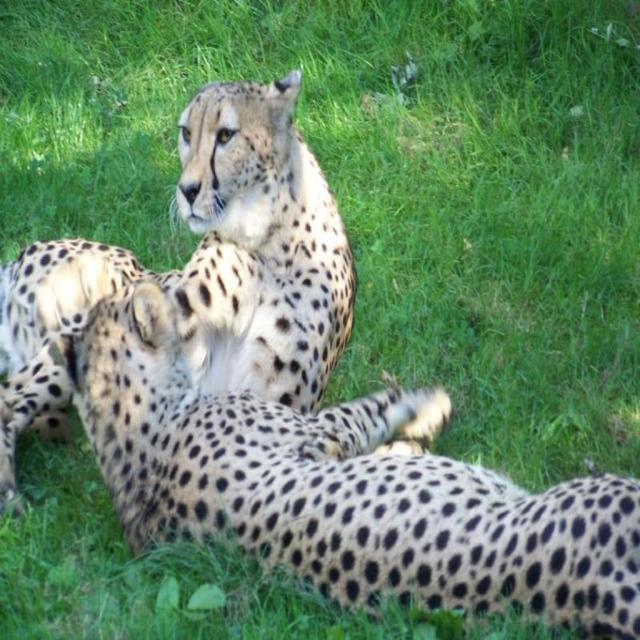Cheetah: (69, 274, 640, 640), (0, 49, 378, 479)
